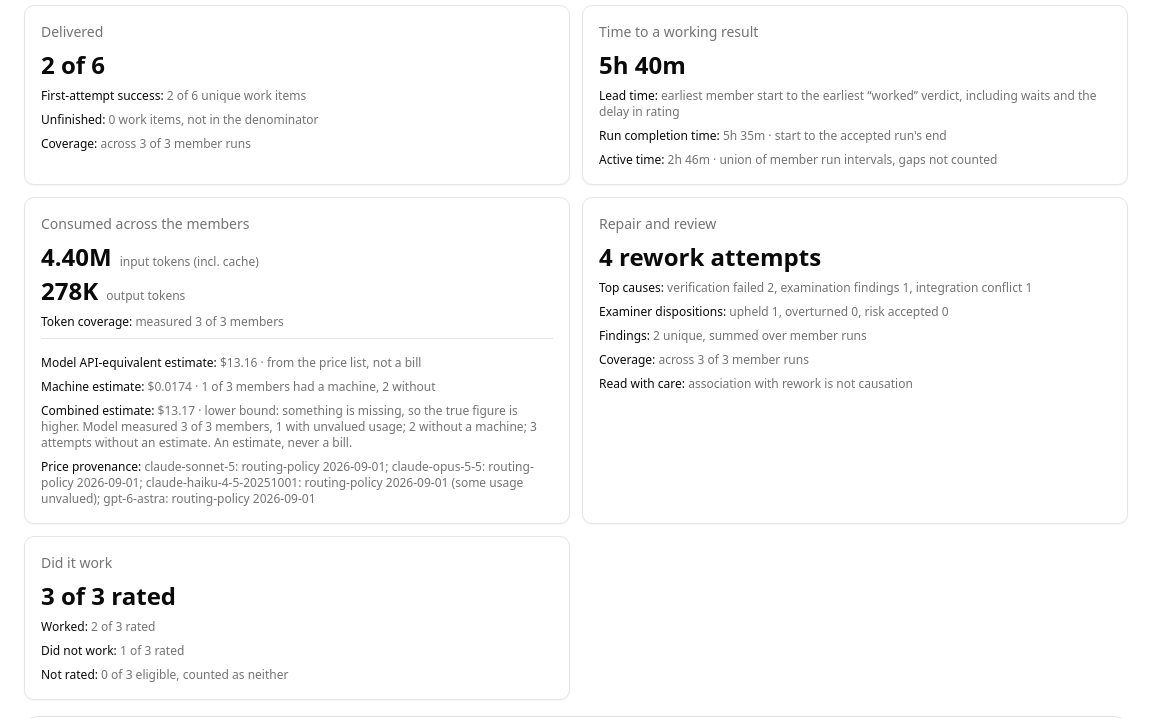
Test: a completion history › opens an evidence dialog from the consumed and rating tiles
(page scrolled)
Click the button that starts with "Consumed across the members" at {"x": 297, "y": 360}, box top-left (24, 197), bottom-right (570, 524)
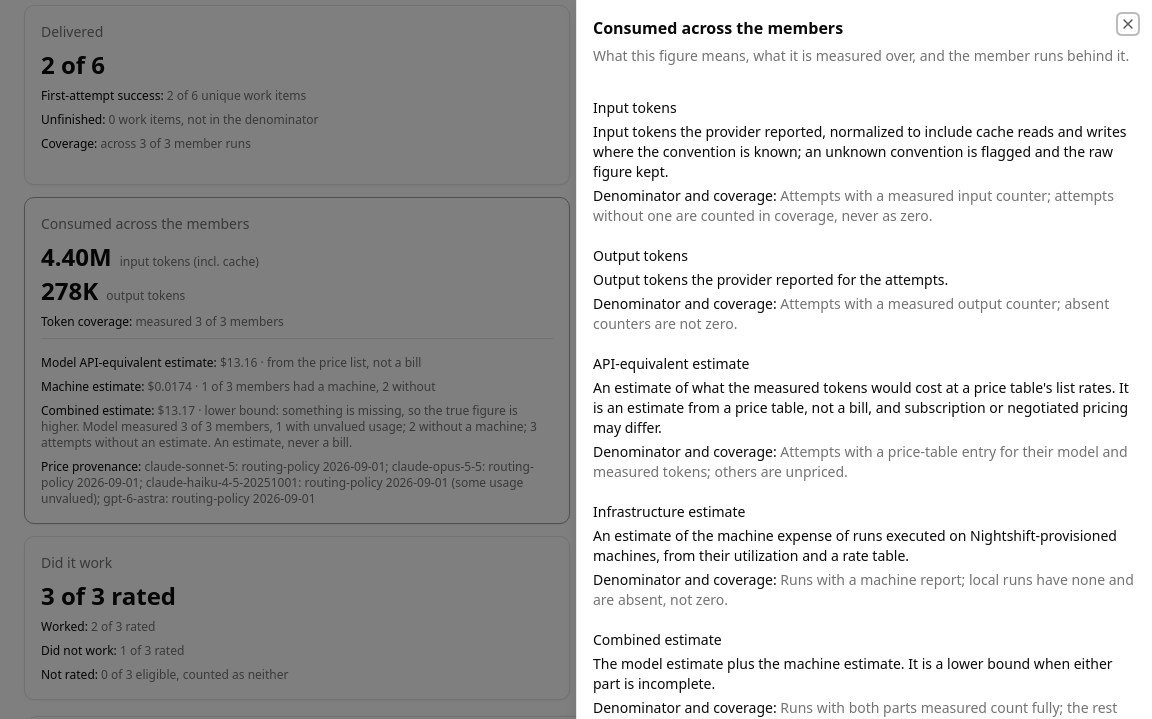
Expected: the element named "Definition: Input tokens" is shown, top-left (593, 98), bottom-right (1136, 226)
Expected: the dialog shows "Denominator and coverage:", top-left (593, 186), bottom-right (777, 205)
Press Escape
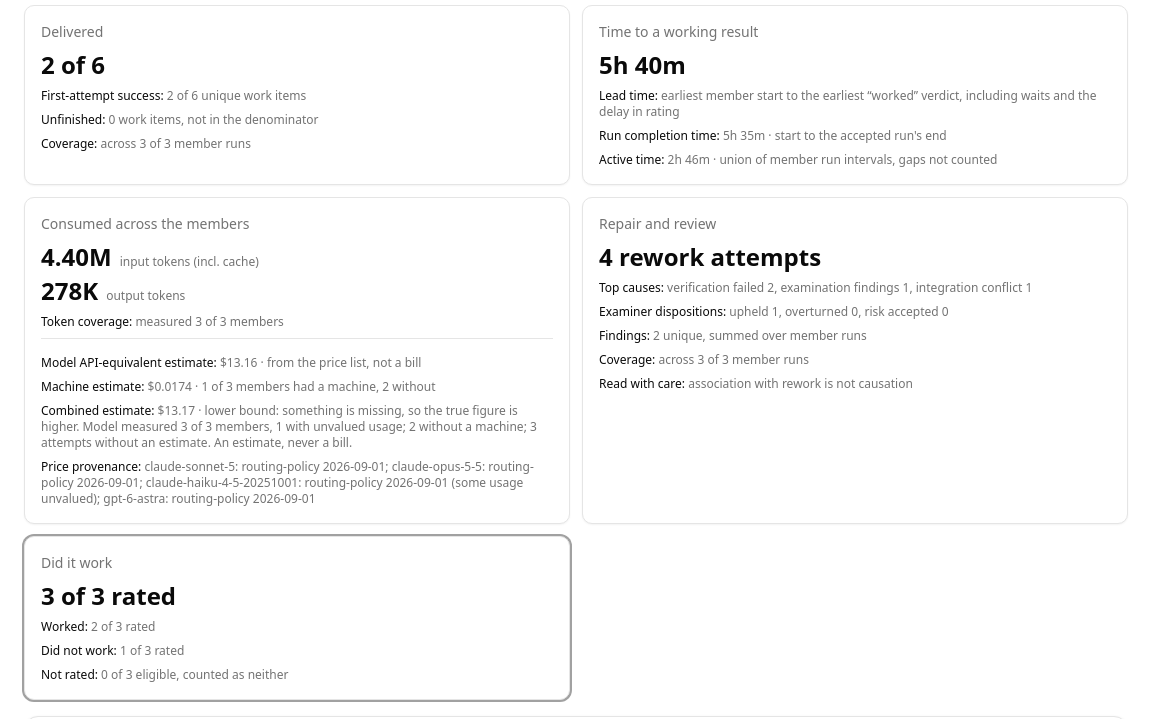
Expected: the dialog is gone
Press Enter
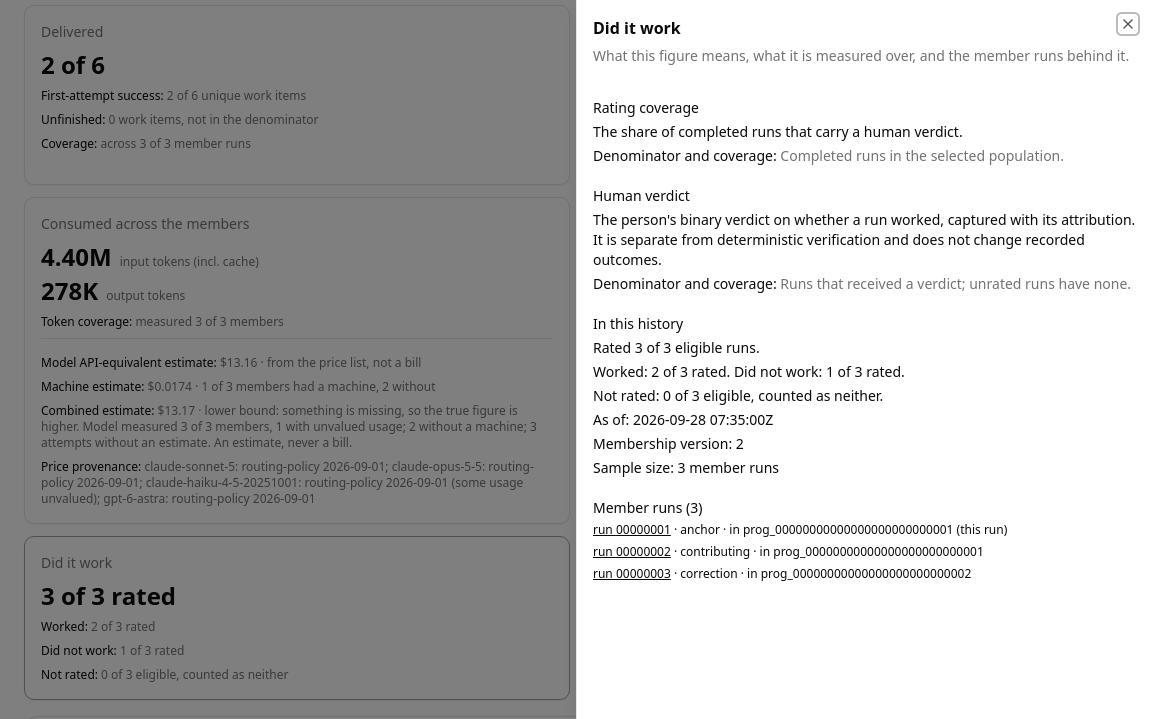
Expected: the dialog shows "Rated 3 of 3 eligible runs", top-left (593, 338), bottom-right (760, 357)
Expected: the dialog shows "Worked: 2 of 3 rated", top-left (593, 362), bottom-right (905, 381)
Expected: the element named "Definition: Rating coverage" is shown, top-left (593, 98), bottom-right (1136, 166)
